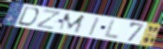7: (127, 21, 147, 42)
D: (16, 6, 40, 27)
I: (87, 16, 101, 36)
L: (103, 18, 121, 41)
M: (57, 13, 87, 34)
Z: (35, 8, 63, 31)
